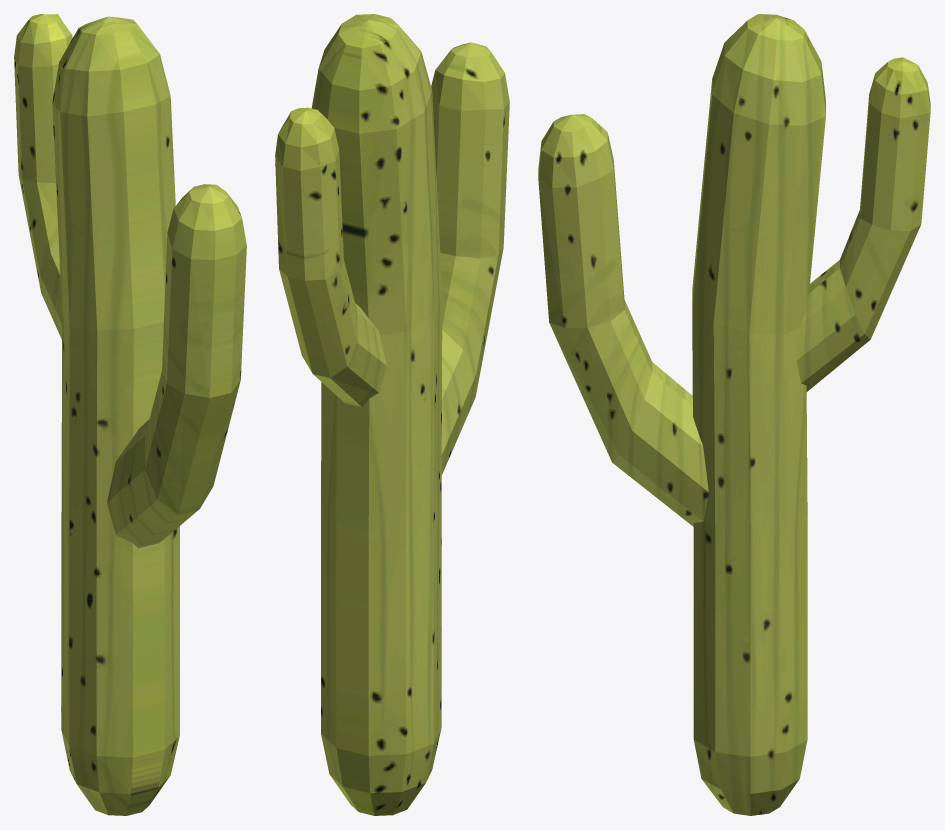
Rendered from Cactus.glb.
The picture shows the model from 3 angles, left to right: view 1: azimuth 30°, elevation 25°; view 2: azimuth 150°, elevation 25°; view 3: azimuth 270°, elevation 25°; orthographic projection.
Visible parts, largest first — view 1: Cactus; view 2: Cactus; view 3: Cactus.
Part boxes in pixels (x1,y1,x2,y2): Cactus: [14, 14, 246, 815]; Cactus: [275, 14, 509, 815]; Cactus: [538, 14, 930, 815].
Bounding box in the file's own units: 16.41 × 120 × 53.79.
Materials: 1 (1 with a texture image).
